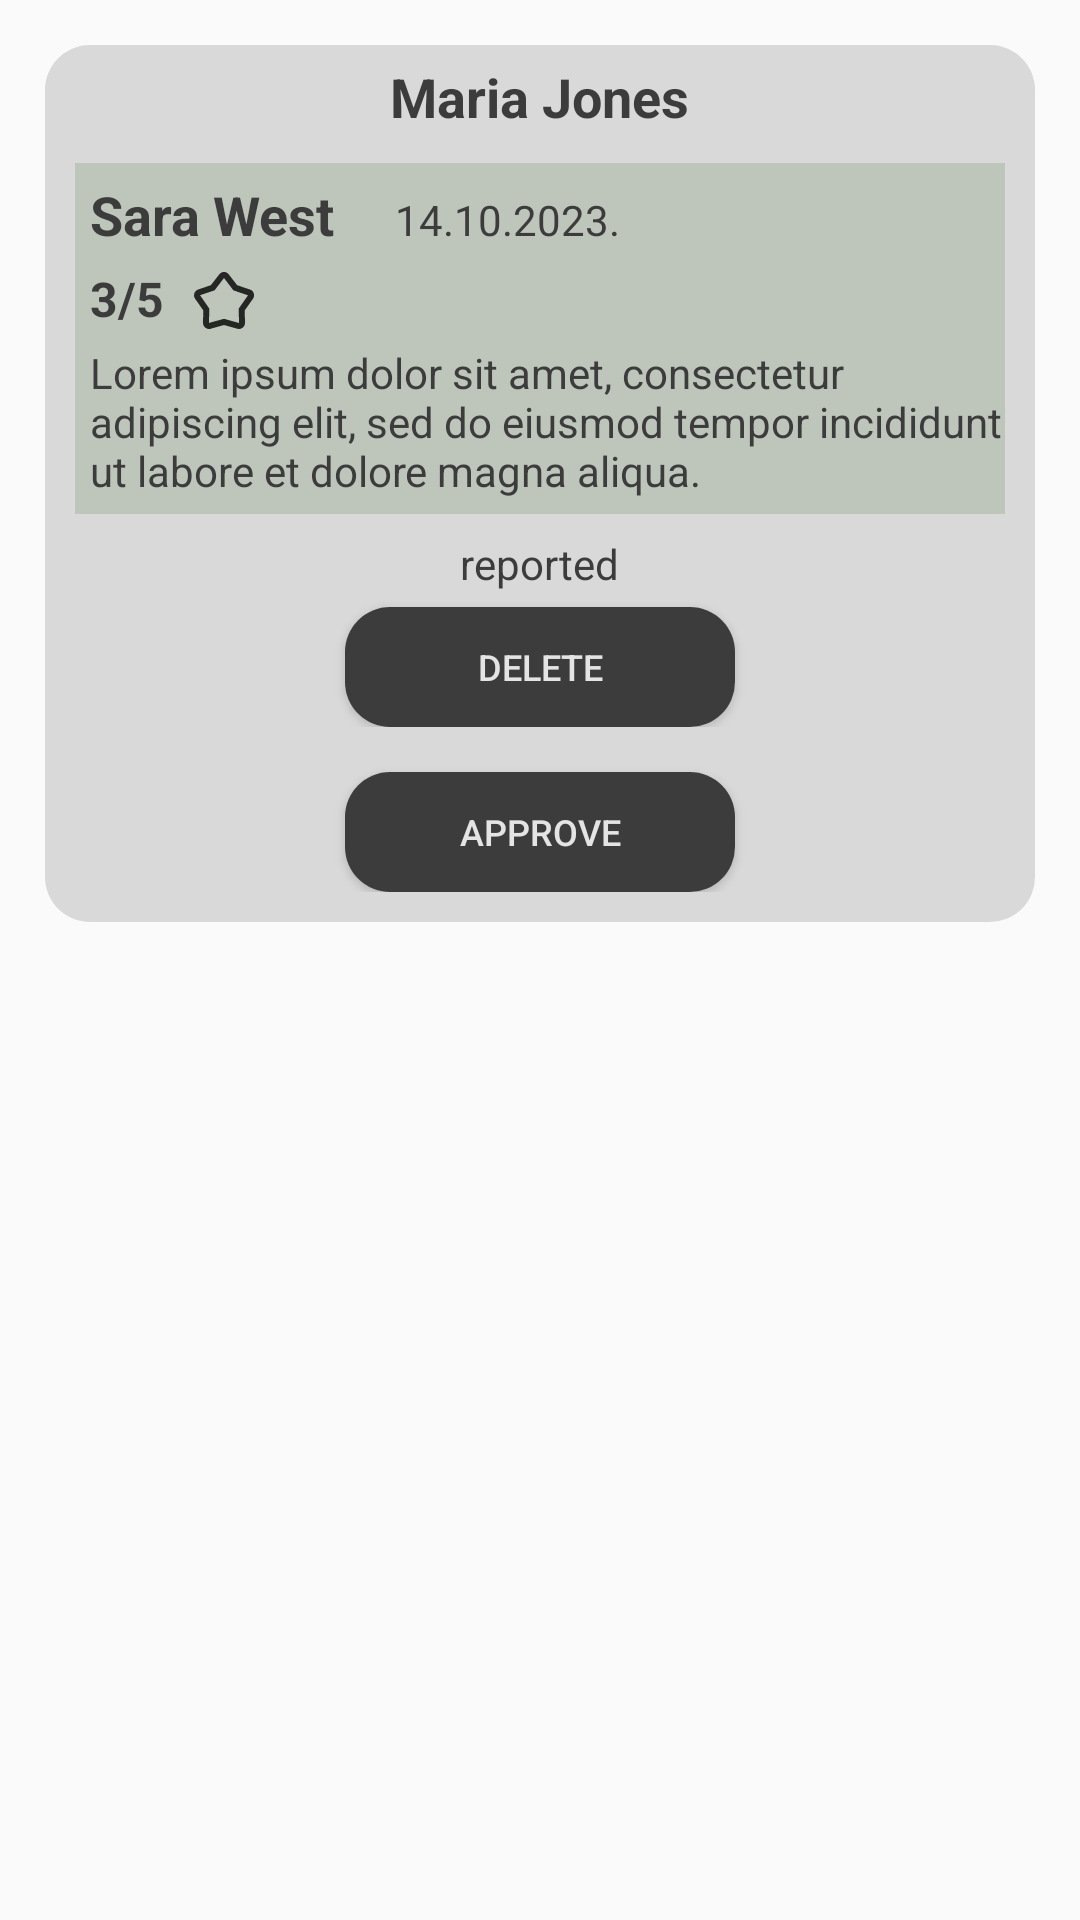

Where icons sit on this 1080*1920 app screen, as box(x1, y1, x2, y2):
kid star: box(194, 272, 254, 329)
